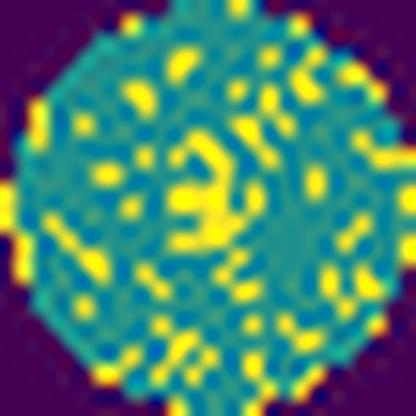Center: (164, 124, 266, 253)
